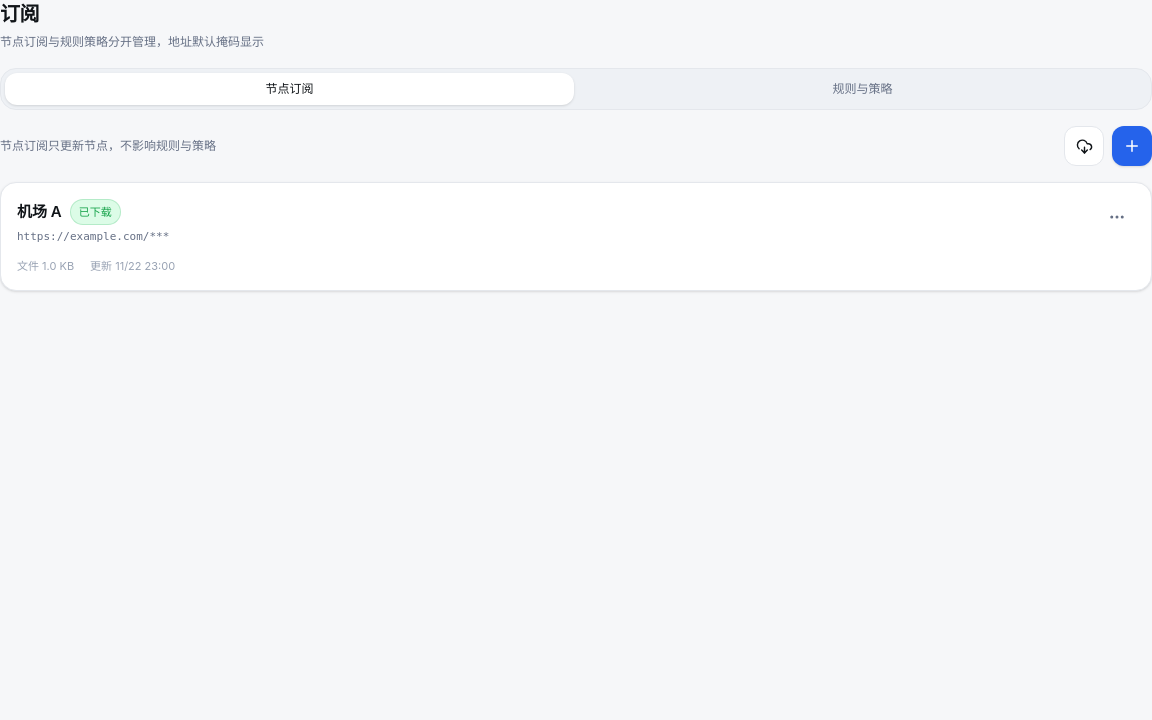
Test: SubscriptionsPage › keeps preset User-Agent selection non-editable
Expected: the heading "机场 A" is shown, [17,201,62,223]
Click the button named "添加订阅".
click(1132, 146)  # box [1112,126,1151,166]
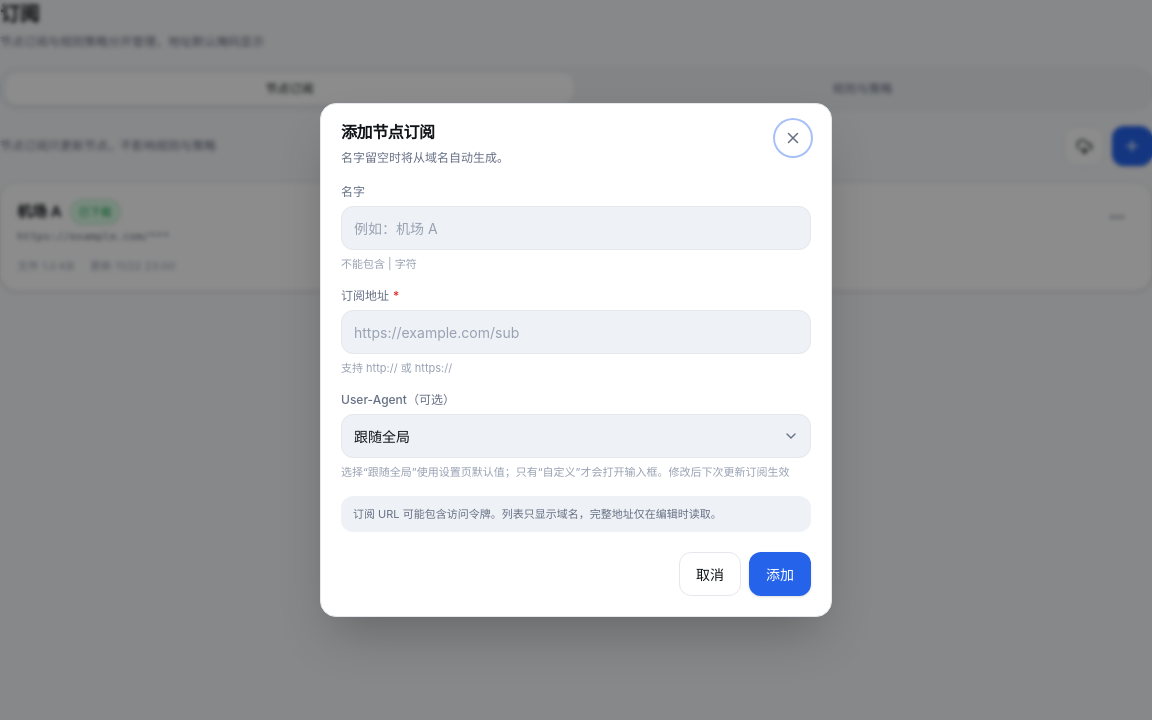
Select "Clash" in the dropdown labelled "User-Agent（可选）" at (576, 436), box [341,414,811,458]
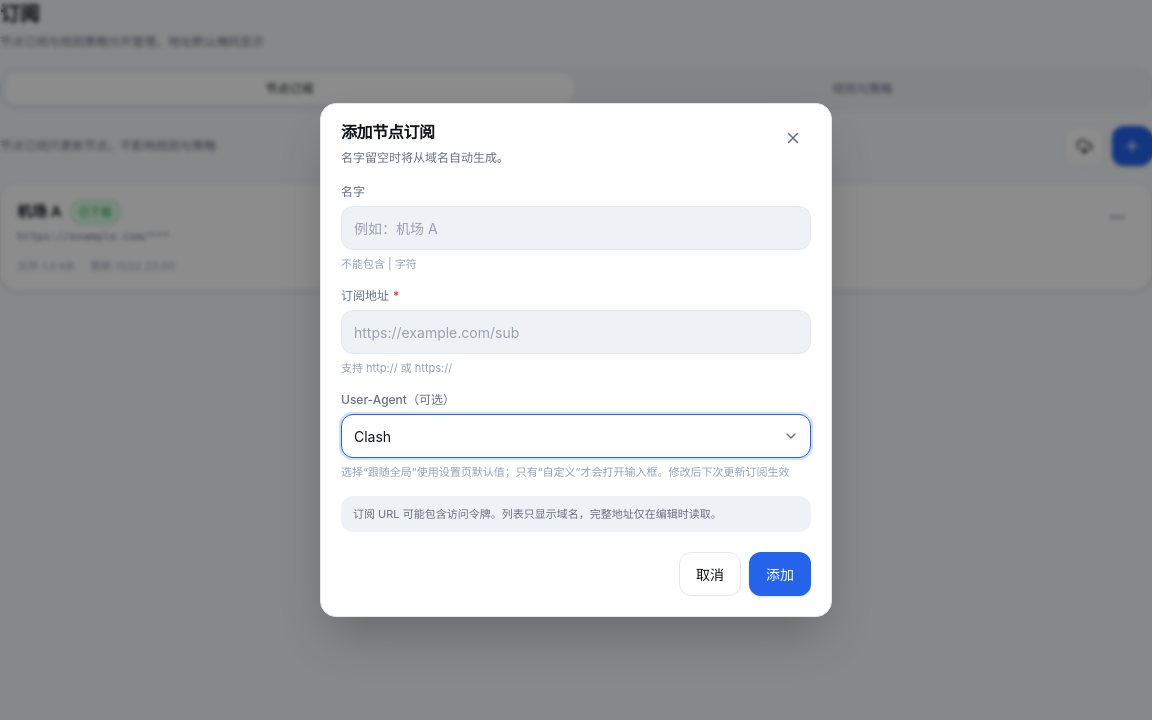
Select "自定义…" in the dropdown labelled "User-Agent（可选）" at (576, 436), box [341,414,811,458]
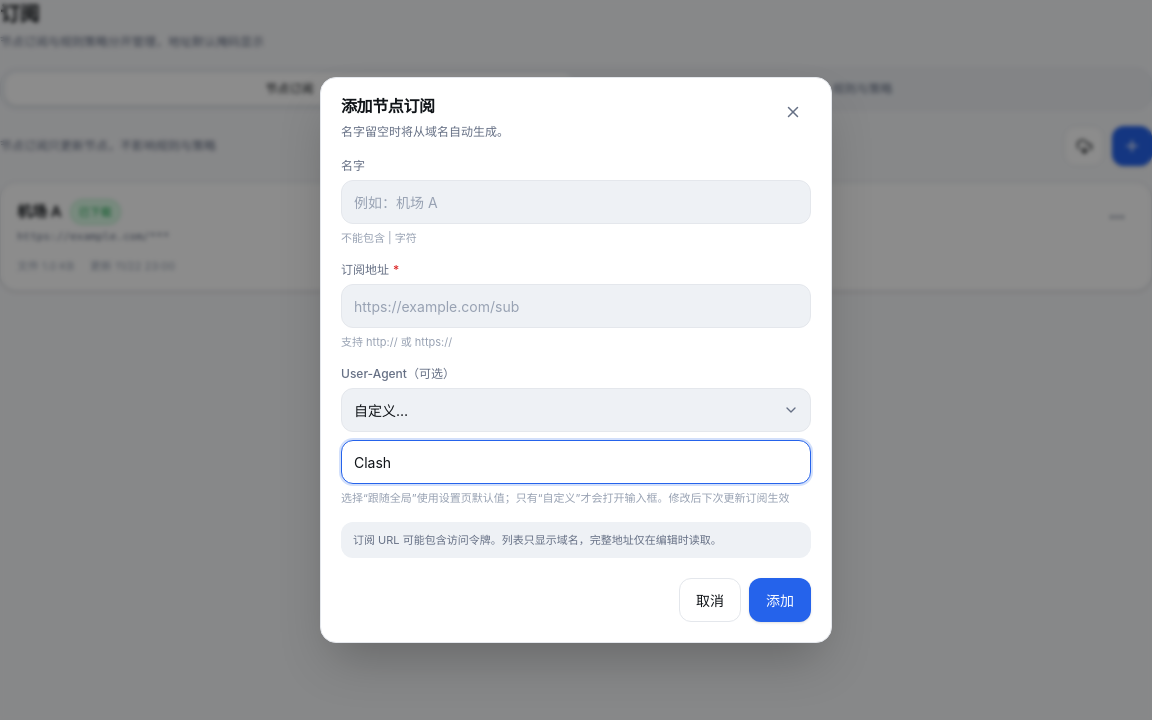
Expected: the field named "自定义 User-Agent" is shown, [341,440,811,484]
